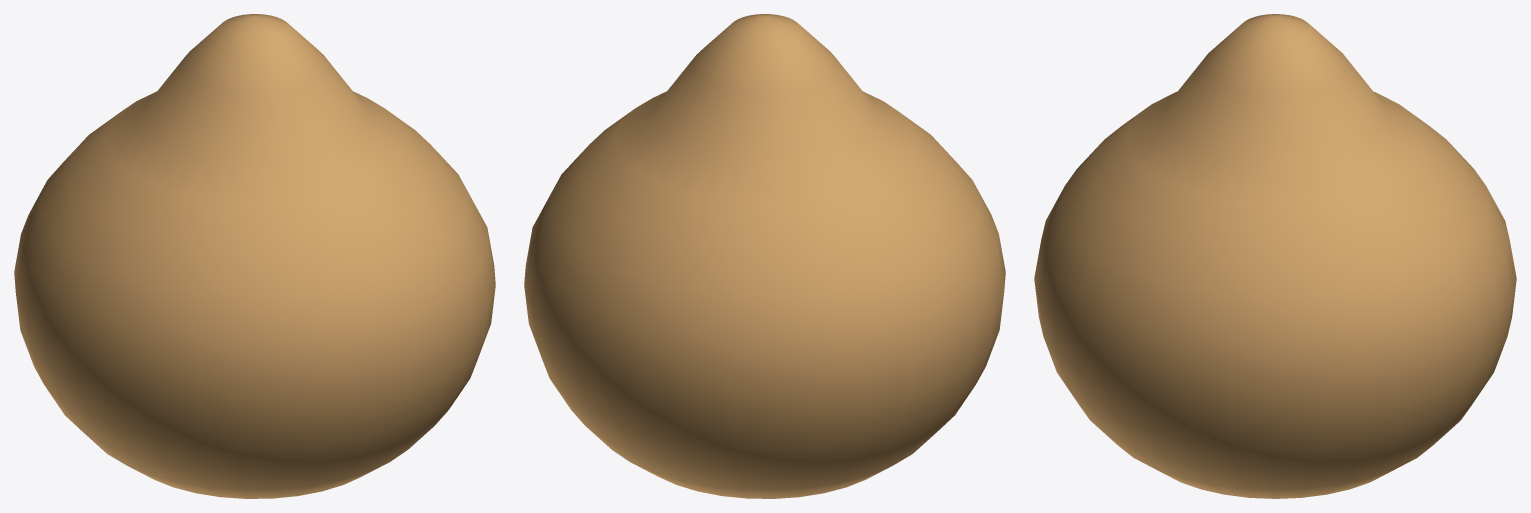
File: Onion.fbx
The picture shows the model from 3 angles, left to right: view 1: azimuth 30°, elevation 25°; view 2: azimuth 150°, elevation 25°; view 3: azimuth 270°, elevation 25°; orthographic projection.
Visible parts, largest first — view 1: Onion; view 2: Onion; view 3: Onion.
Part boxes in pixels (<box>): Onion: <box>14,14,495,498</box>; Onion: <box>524,14,1005,498</box>; Onion: <box>1034,14,1516,498</box>.
Bounding box in the file's own units: 0.08 × 0.081 × 0.08.
